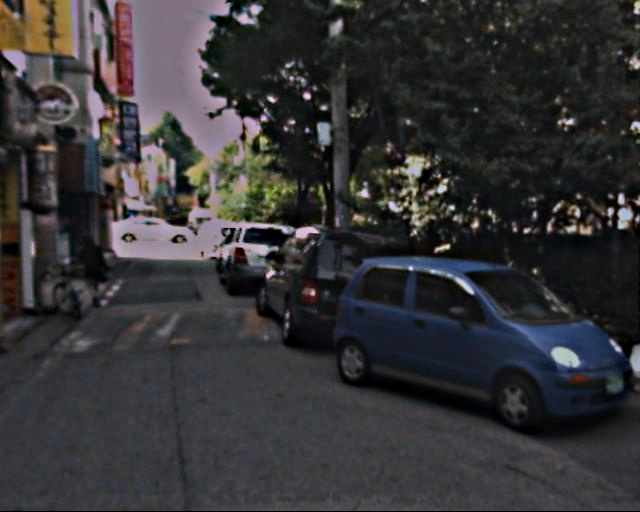person: (73, 226, 107, 307)
